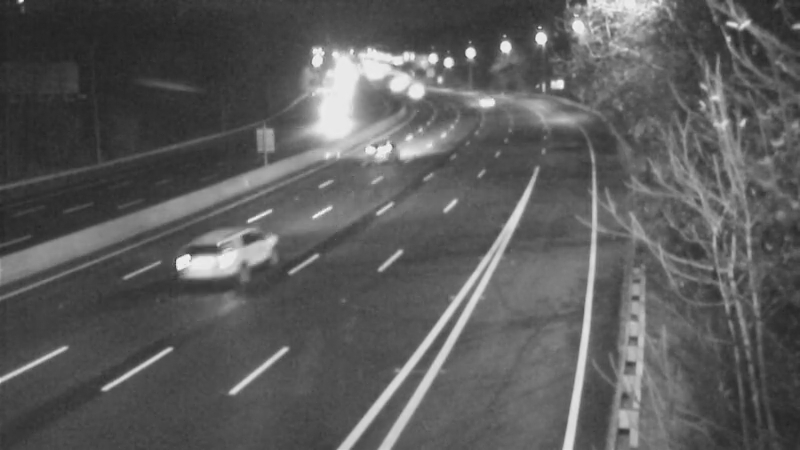vehicle: (171, 219, 251, 299), (460, 75, 510, 125), (346, 124, 396, 174), (298, 93, 348, 143)
